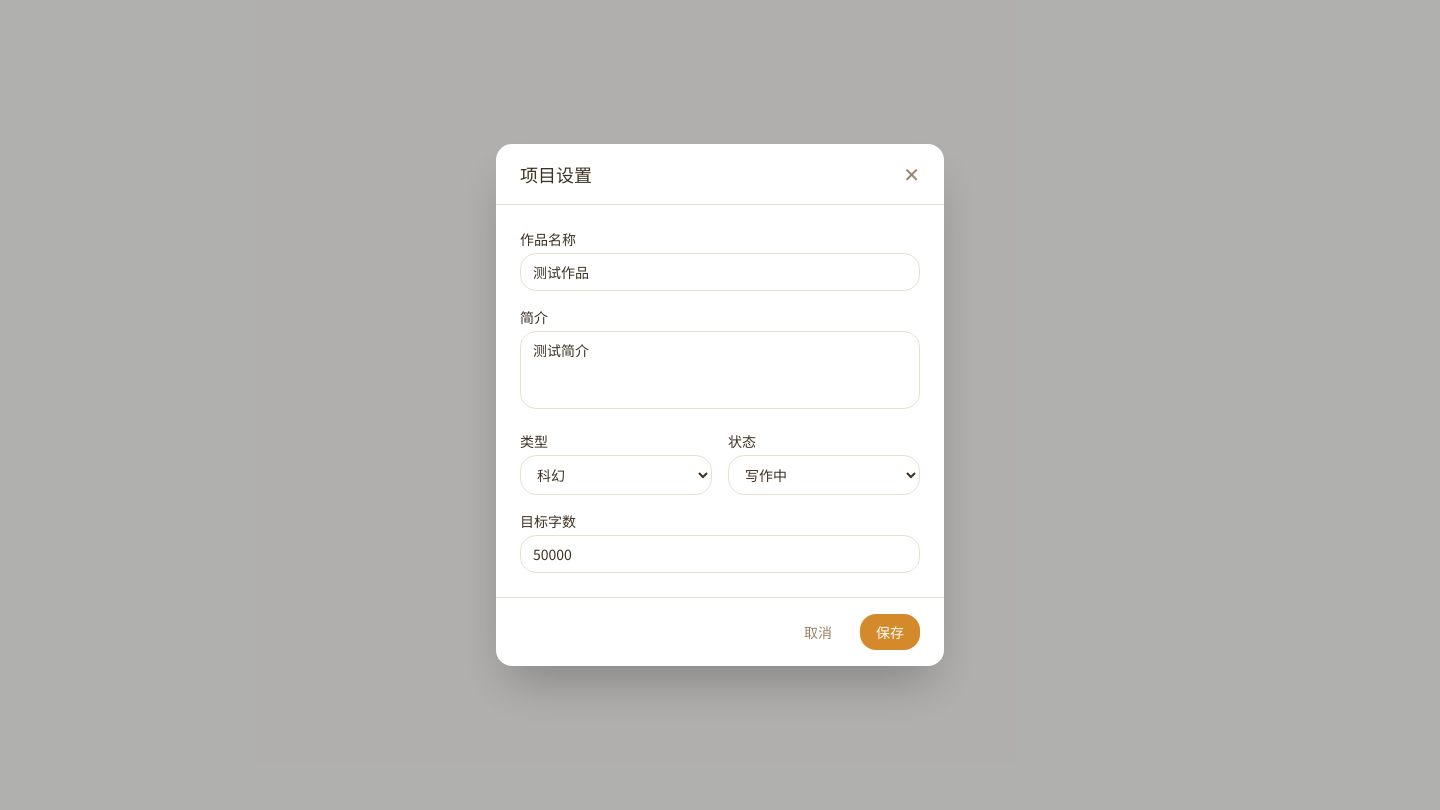
ProjectSettings › should show error when update fails
The image size is (1440, 810).
expect the field showing "测试作品" is shown: met, box [520, 253, 920, 291]
Click the button "保存" at (890, 632), box [860, 614, 920, 650]
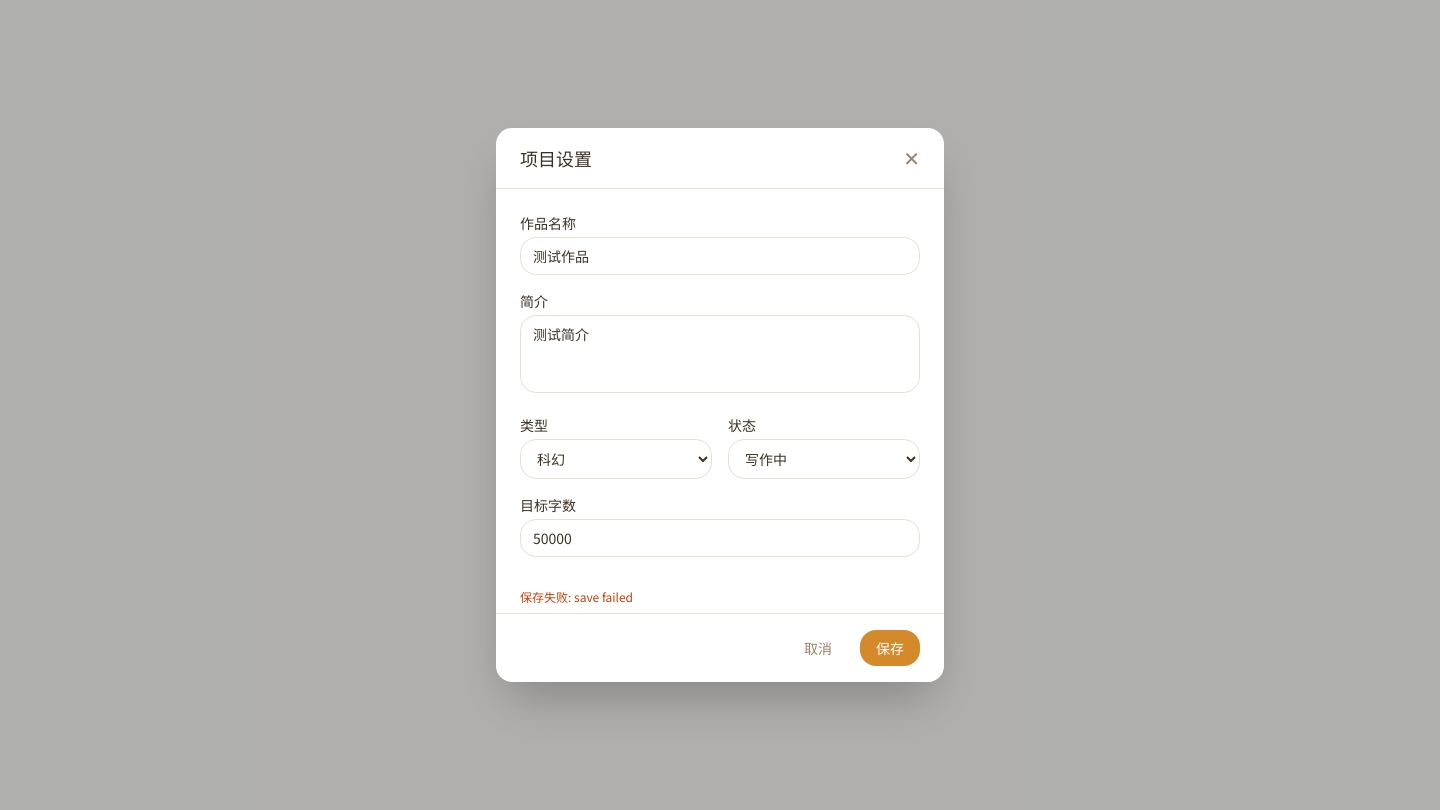
expect the text "保存失败: save failed" is shown: met, box [520, 588, 633, 605]
